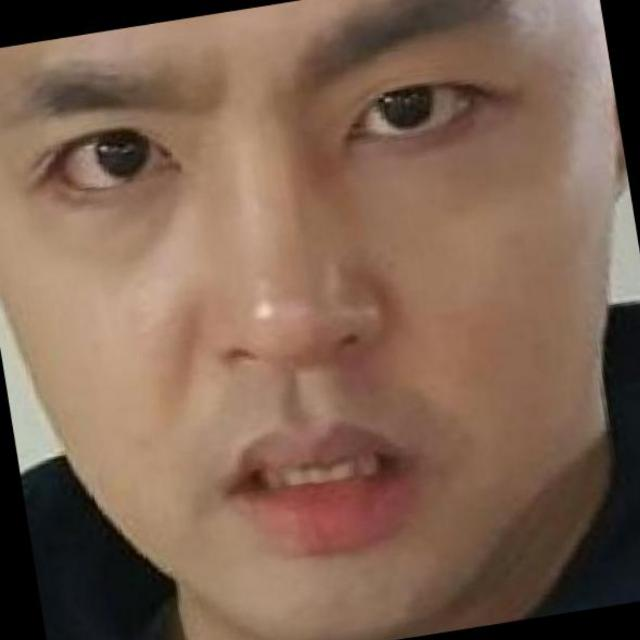Surprised: (5, 25, 595, 598)
